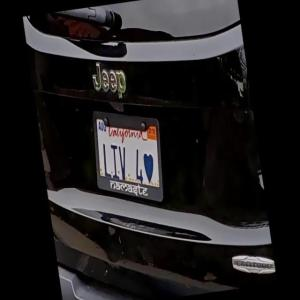Plate: (86, 94, 175, 220)
